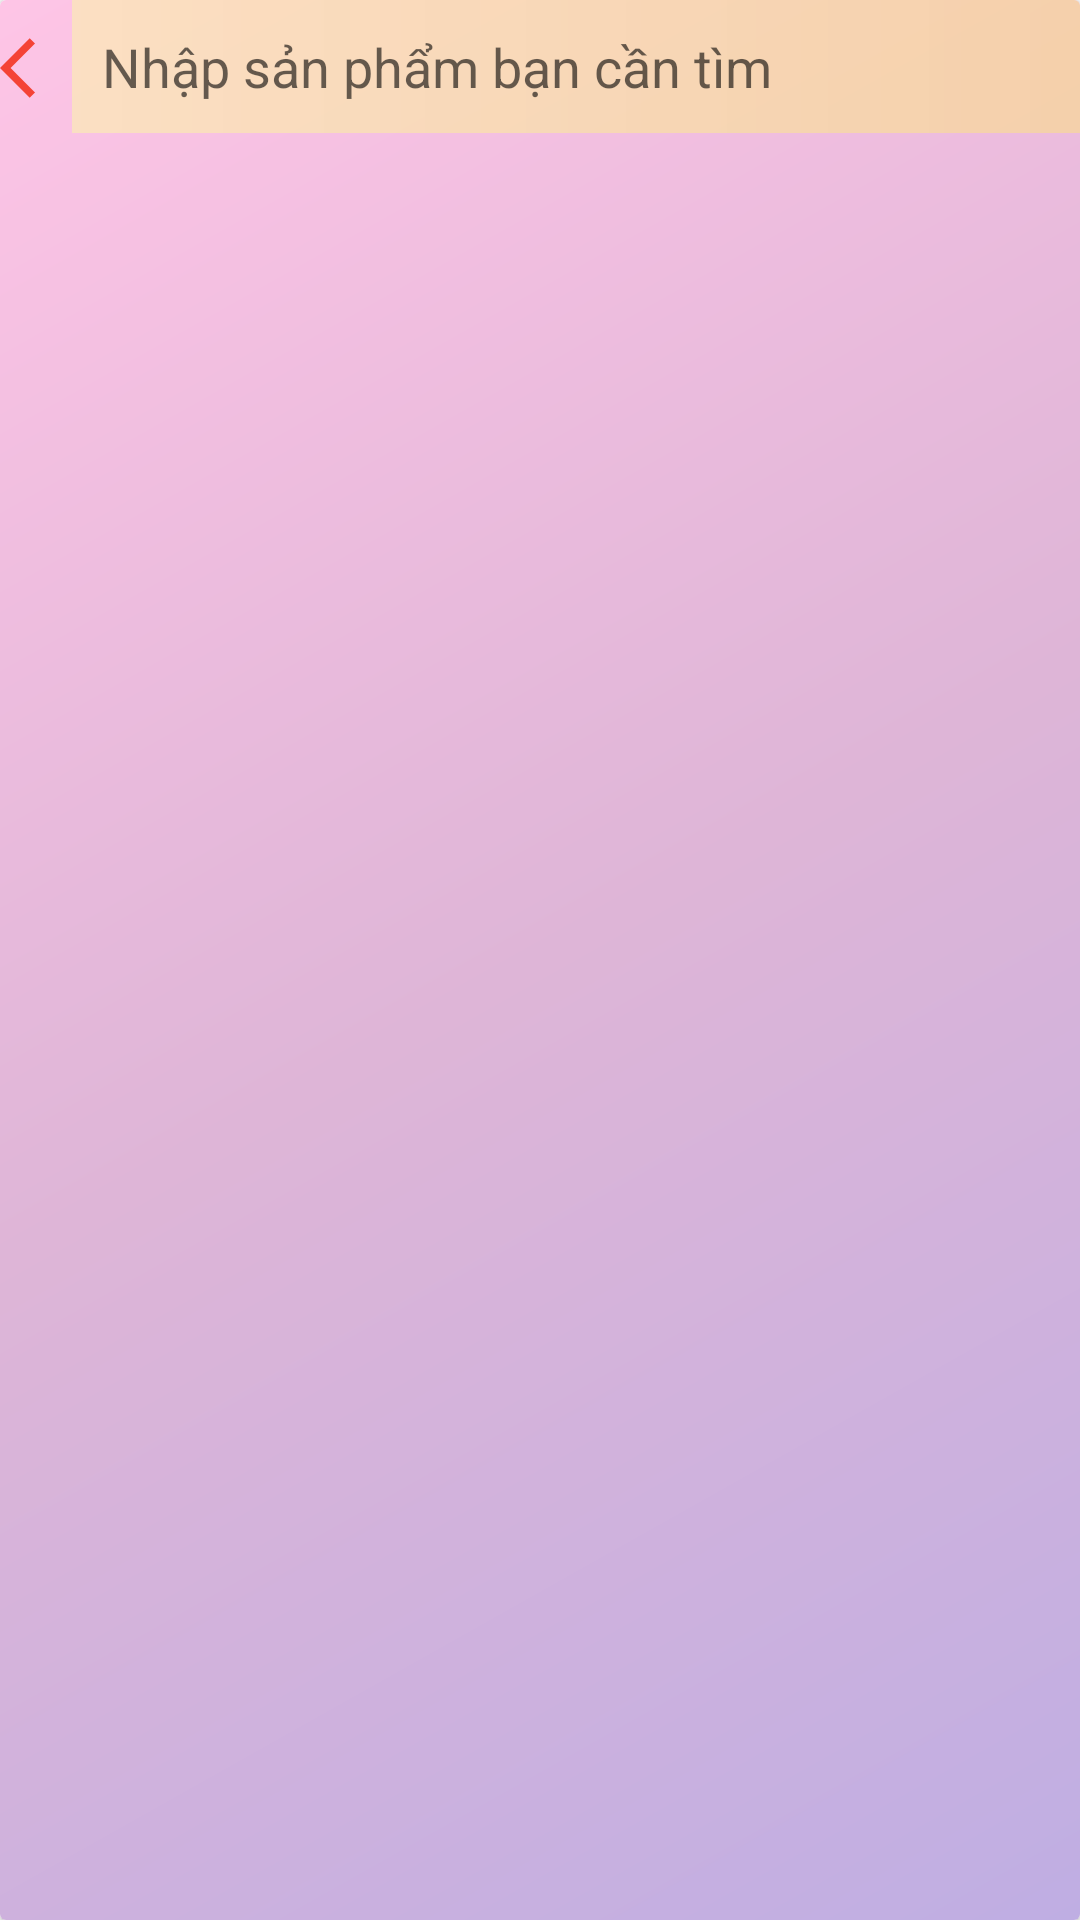

Screen size 1080x1920. Icon name, then its center in pixels as [x,y]:
back: [17,49]
